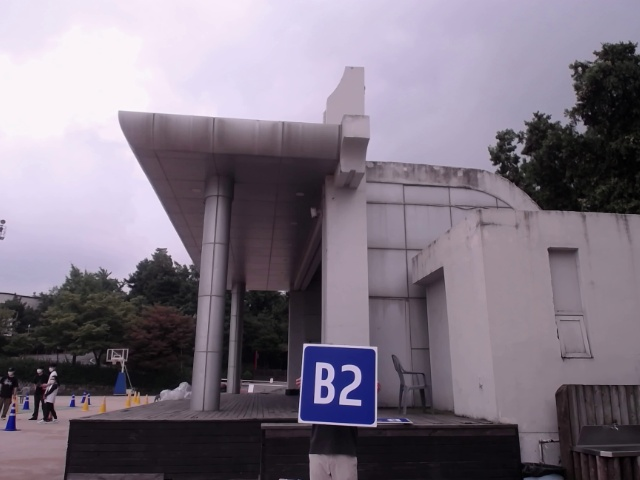delivery_b2: (303, 340, 376, 424)
